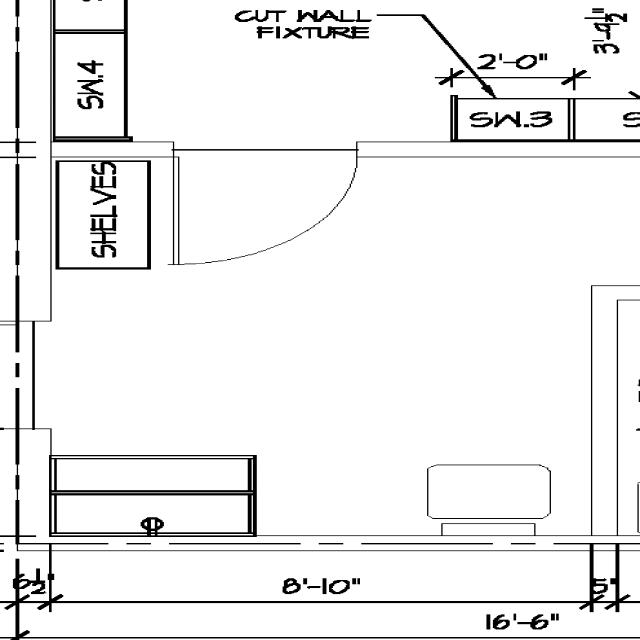Doors: (160, 140, 364, 272)
